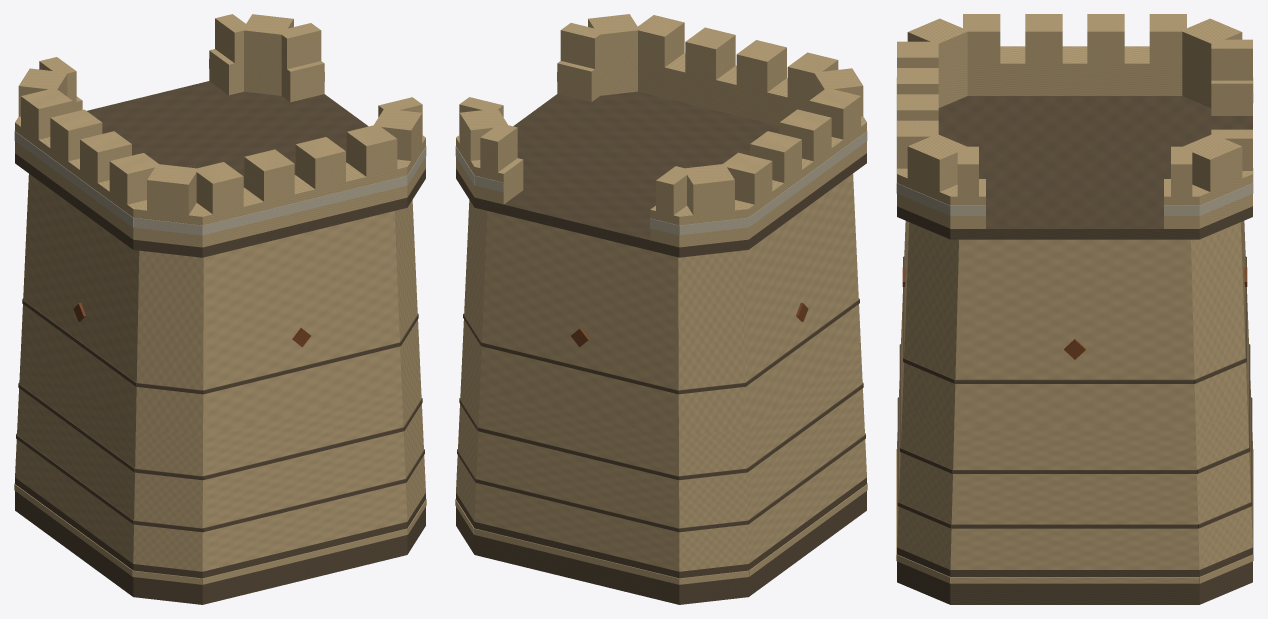
File: Berber_Bastion_Age4_corner.fbx
3 renders of one model, left to right at view 1: azimuth 30°, elevation 25°; view 2: azimuth 150°, elevation 25°; view 3: azimuth 270°, elevation 25°, orthographic. The views are drawn at different scales.
Parts seen in each view (by area): view 1: corner_battered_upper, corner_battered_lower, corner_continuous_walk_floor, corner_stone_foot, corner_guard_0_0, corner_guard_6_0, corner_owner_band_0_0, corner_guard_7_0, corner_merlon_0_0_1, corner_merlon_0_0_3, corner_merlon_0_0_2, corner_merlon_7_0_0 (+34 smaller); view 2: corner_battered_upper, corner_battered_lower, corner_continuous_walk_floor, corner_stone_foot, corner_guard_0_0, corner_guard_6_0, corner_guard_5_0, corner_merlon_0_0_2, corner_merlon_0_0_1, corner_guard_2_0, corner_foundation_bond_4, corner_merlon_0_0_3 (+35 smaller); view 3: corner_battered_upper, corner_battered_lower, corner_continuous_walk_floor, corner_stone_foot, corner_guard_6_0, corner_foundation_bond_2, corner_merlon_3_0_0, corner_merlon_1_0_0, corner_guard_4_1, corner_guard_1_0, corner_guard_3_0, corner_merlon_4_1_0 (+30 smaller).
Boxes of the visible parts, box(x1,y1,x2,y2) form: corner_battered_upper: box(21, 174, 419, 436); corner_battered_lower: box(15, 345, 425, 571); corner_continuous_walk_floor: box(15, 81, 425, 257); corner_stone_foot: box(15, 477, 425, 604); corner_guard_0_0: box(192, 160, 407, 247); corner_guard_6_0: box(15, 122, 146, 239); corner_owner_band_0_0: box(202, 175, 407, 235); corner_guard_7_0: box(133, 200, 206, 247); corner_merlon_0_0_1: box(244, 159, 294, 201); corner_merlon_0_0_3: box(346, 132, 397, 176); corner_merlon_0_0_2: box(295, 145, 345, 189); corner_merlon_7_0_0: box(147, 173, 196, 215); corner_battered_upper: box(462, 174, 860, 436); corner_battered_lower: box(456, 345, 866, 571); corner_continuous_walk_floor: box(456, 91, 866, 257); corner_stone_foot: box(456, 477, 866, 604); corner_guard_0_0: box(638, 53, 809, 125); corner_guard_6_0: box(735, 121, 866, 239); corner_guard_5_0: box(679, 200, 748, 247); corner_merlon_0_0_2: box(685, 35, 735, 79); corner_merlon_0_0_1: box(736, 48, 786, 92); corner_guard_2_0: box(557, 61, 600, 102); corner_foundation_bond_4: box(474, 528, 679, 584); corner_merlon_0_0_3: box(638, 23, 684, 67); corner_battered_upper: box(902, 221, 1247, 427); corner_battered_lower: box(897, 312, 1252, 569); corner_continuous_walk_floor: box(897, 96, 1252, 239); corner_stone_foot: box(897, 547, 1252, 604); corner_guard_6_0: box(967, 46, 1182, 95); corner_foundation_bond_2: box(950, 577, 1199, 583); corner_merlon_3_0_0: box(1192, 147, 1242, 191); corner_merlon_1_0_0: box(907, 148, 957, 191); corner_guard_4_1: box(1211, 80, 1252, 115); corner_guard_1_0: box(897, 170, 979, 228); corner_guard_3_0: box(1170, 171, 1252, 228); corner_merlon_4_1_0: box(1211, 48, 1252, 80).
Bounding box in the file's own units: 603 × 820 × 603.
4 materials, 4 textured.
